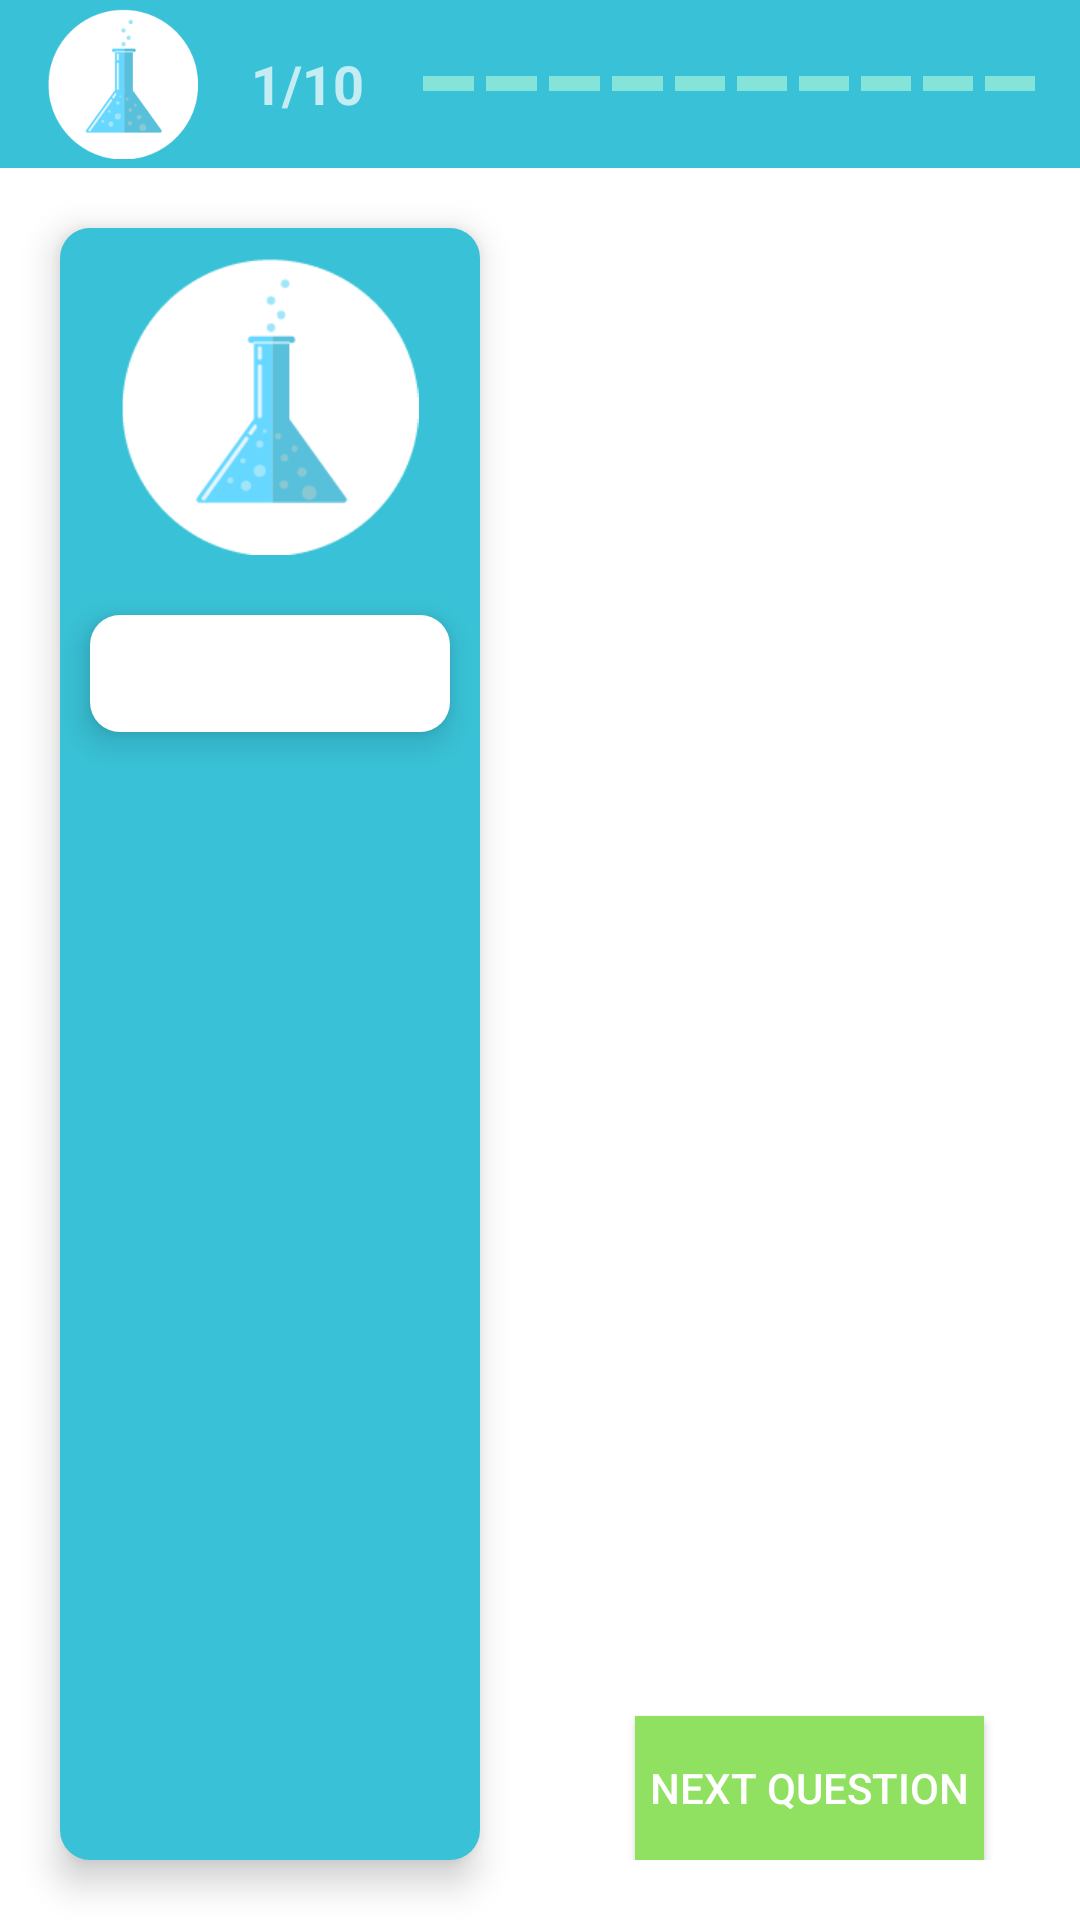

Icons on this 1080×1920 Android screen, each with its box as (x1, y1, x2, y2):
science: (48, 9, 198, 159), (122, 259, 419, 555)
